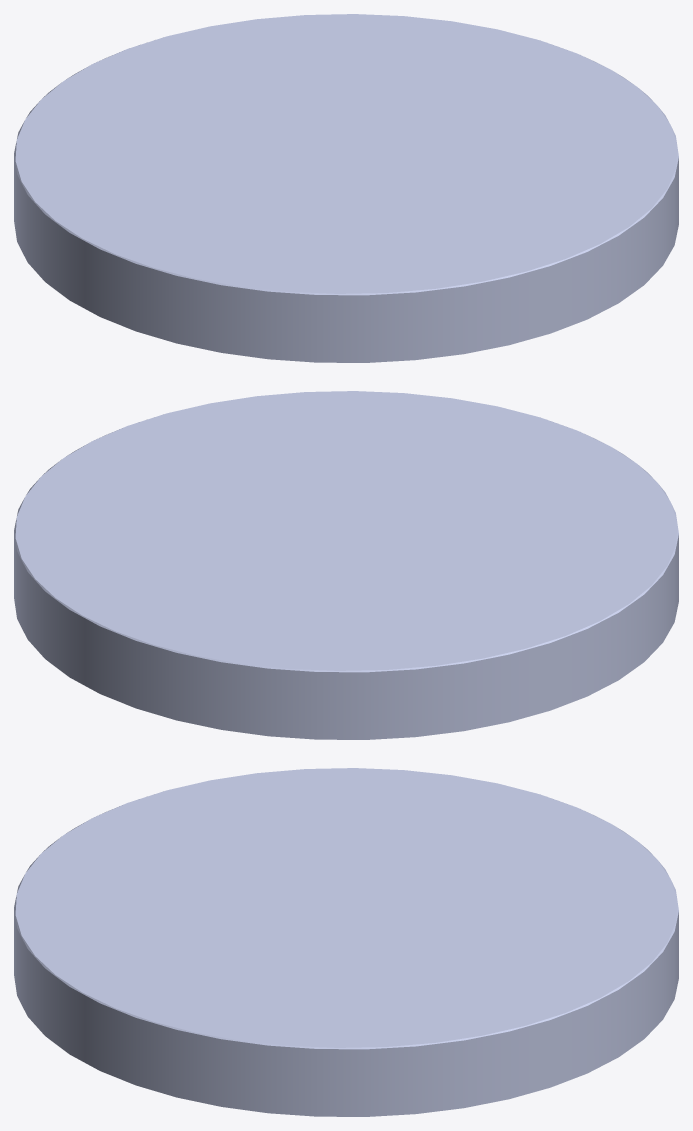
3 views of the same model, one above another, from view 1: azimuth 30°, elevation 25°; view 2: azimuth 150°, elevation 25°; view 3: azimuth 270°, elevation 25° (orthographic).
Parts seen in each view (by area): view 1: Body1; view 2: Body1; view 3: Body1.
Boxes of the visible parts, x1,y1,x2,y2 form: Body1: (14,14,678,362); Body1: (14,391,678,739); Body1: (14,768,678,1116).
Size of the model in its own units: 0.0569 by 0.0065 by 0.057.
